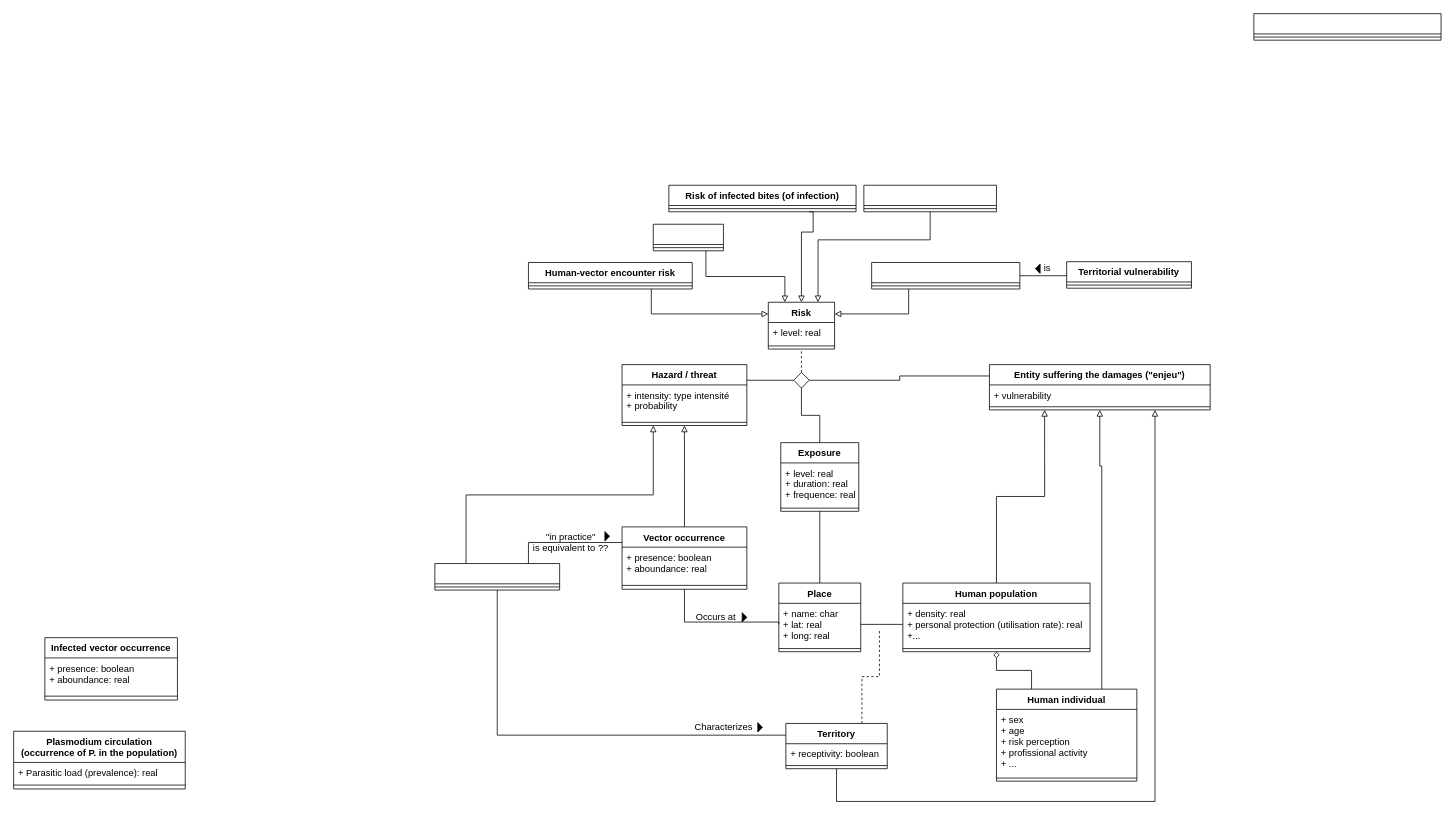
This 1455x821 diagram has some shape labels left out. Each missing label, with the centre of its shape:
"Bite risk" belongs at point 687,237.
"Malaria case risk" belongs at point 929,198.
"Malaria re-introduction risk" belongs at point 945,275.
"Territorial receptivity" belongs at point 497,576.
"Territorial vulnerability (WHO)" belongs at point 1347,26.
